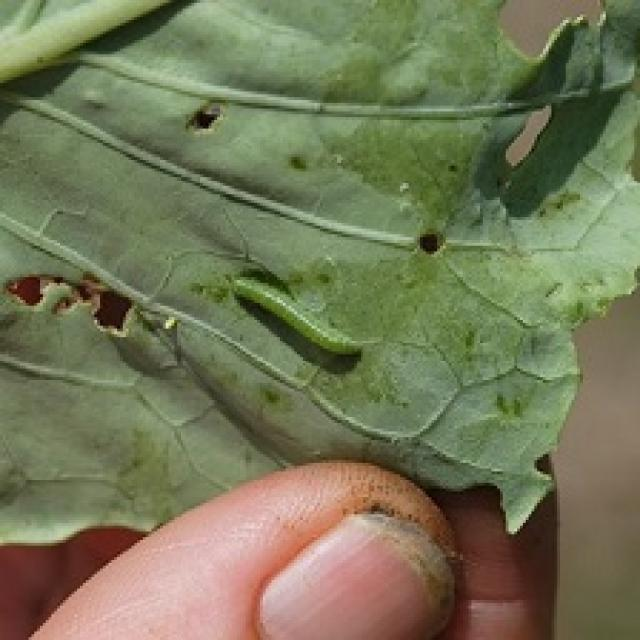worm: (213, 257, 377, 390)
